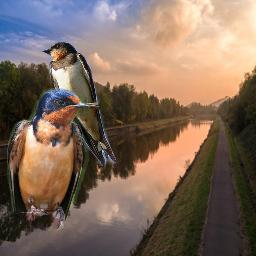Swallow: (7, 88, 90, 231), (41, 41, 116, 166)
